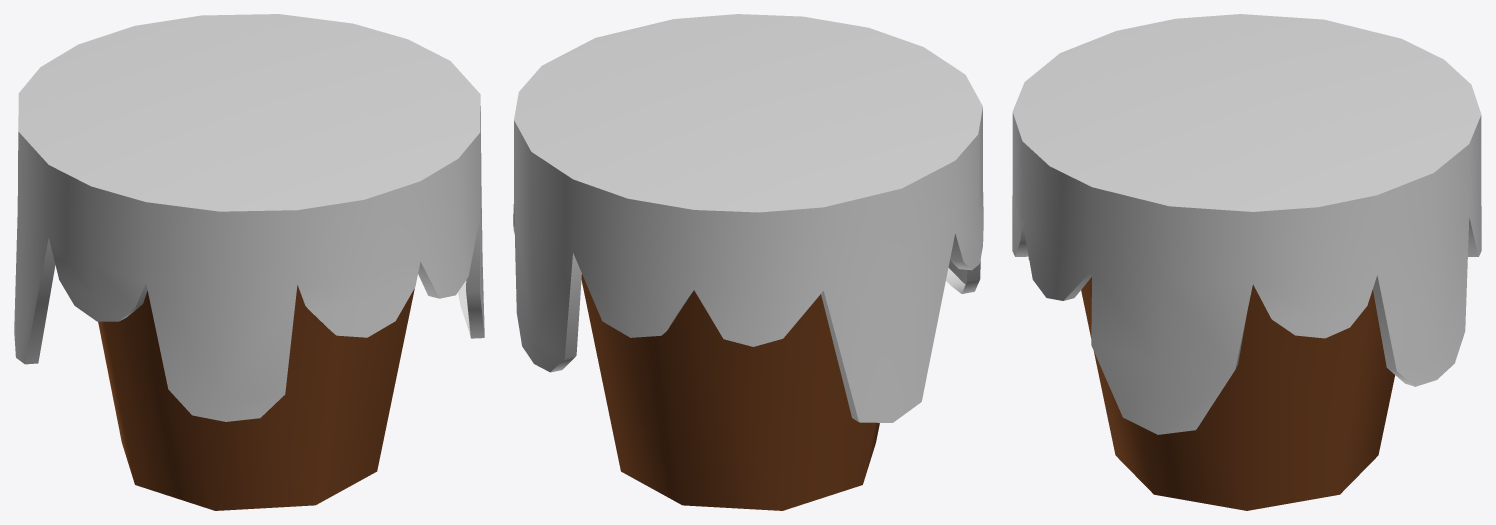
File: IceCreamTable3_RC02.fbx
3 views of the same model, side by side, from view 1: azimuth 30°, elevation 25°; view 2: azimuth 150°, elevation 25°; view 3: azimuth 270°, elevation 25° (orthographic).
Parts seen in each view (by area): view 1: IceCream_Table3; view 2: IceCream_Table3; view 3: IceCream_Table3.
Part boxes in pixels (x1,y1,x2,y2): IceCream_Table3: (14,14,484,510); IceCream_Table3: (513,14,983,510); IceCream_Table3: (1012,14,1481,510).
Size of the model in its own units: 1.18 by 0.973 by 1.18.
